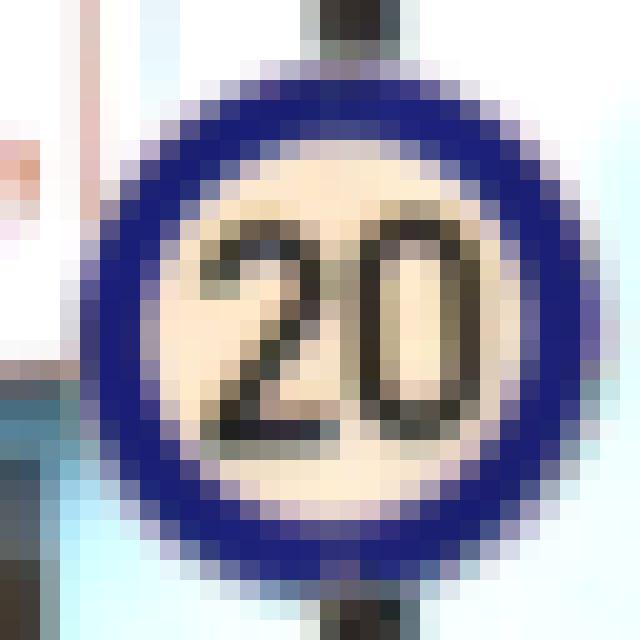SPEED LIMIT 20: (80, 71, 602, 594)
